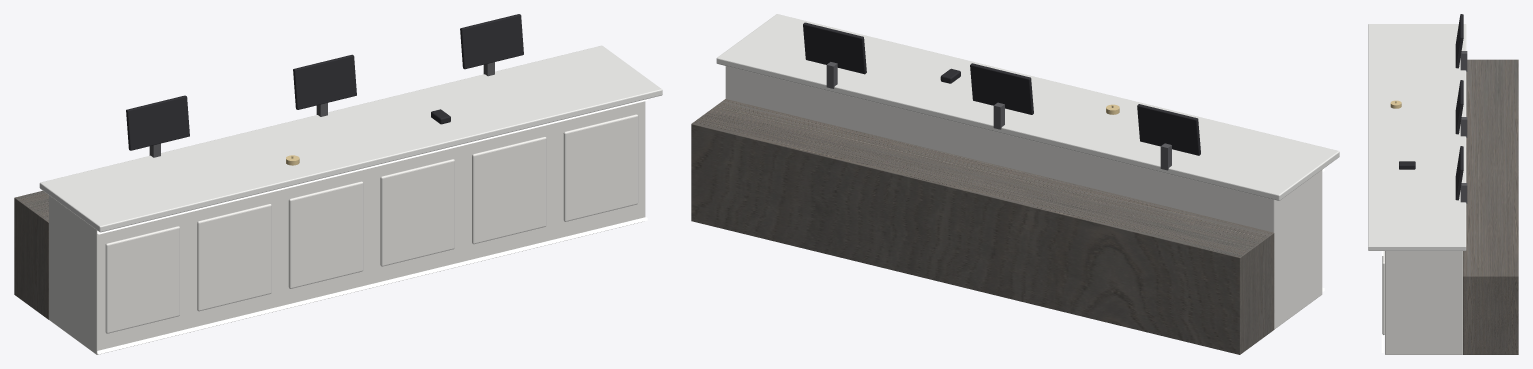
The model's file is hotel-front-desk.glb.
3 renders of one model, left to right at view 1: azimuth 30°, elevation 25°; view 2: azimuth 150°, elevation 25°; view 3: azimuth 270°, elevation 25°, orthographic. The views are drawn at different scales.
Visible parts, largest first — view 1: top, body, panel2, panel5, panel1, panel3, panel4, panel0, work, monitor.002, monitor, monitor.001 (+2 smaller); view 2: work, top, body, monitor.002, monitor, monitor.001; view 3: top, work, body, monitor, monitor.001, monitor.002, panel5, kick, stand, stand.001, stand.002, card_reader.
Part boxes in pixels (left/top/right/bottom): top: left=39, top=45, right=662, bottom=232; body: left=49, top=101, right=645, bottom=354; panel2: left=288, top=181, right=363, bottom=288; panel5: left=563, top=114, right=638, bottom=221; panel1: left=197, top=204, right=271, bottom=311; panel3: left=380, top=159, right=454, bottom=266; panel4: left=472, top=136, right=546, bottom=244; panel0: left=105, top=226, right=179, bottom=333; work: left=14, top=190, right=48, bottom=319; monitor.002: left=460, top=14, right=523, bottom=69; monitor: left=126, top=95, right=189, bottom=150; monitor.001: left=293, top=54, right=356, bottom=109; work: left=691, top=99, right=1274, bottom=354; top: left=716, top=14, right=1339, bottom=200; body: left=725, top=66, right=1322, bottom=329; monitor.002: left=803, top=22, right=866, bottom=74; monitor: left=1137, top=104, right=1200, bottom=155; monitor.001: left=970, top=63, right=1033, bottom=114; top: left=1368, top=24, right=1466, bottom=250; work: left=1463, top=59, right=1518, bottom=354; body: left=1385, top=251, right=1462, bottom=354; monitor: left=1455, top=14, right=1463, bottom=68; monitor.001: left=1455, top=80, right=1463, bottom=134; monitor.002: left=1455, top=146, right=1463, bottom=200; panel5: left=1382, top=251, right=1384, bottom=334; kick: left=1381, top=256, right=1383, bottom=352; stand: left=1460, top=51, right=1467, bottom=71; stand.001: left=1460, top=117, right=1467, bottom=137; stand.002: left=1460, top=183, right=1467, bottom=203; card_reader: left=1399, top=161, right=1415, bottom=169.
Bounding box in the file's own units: 4.72 × 1.53 × 1.35.
7 materials, 1 textured.
